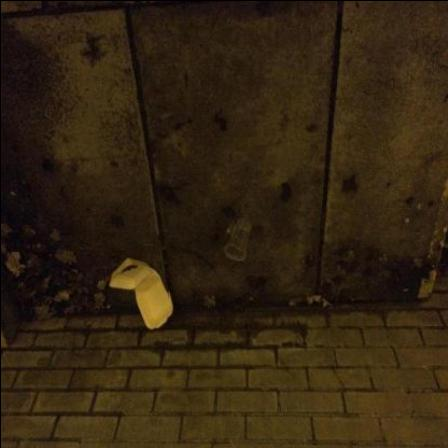Cup: (225, 219, 251, 261)
Plastic container: (110, 258, 174, 330)
